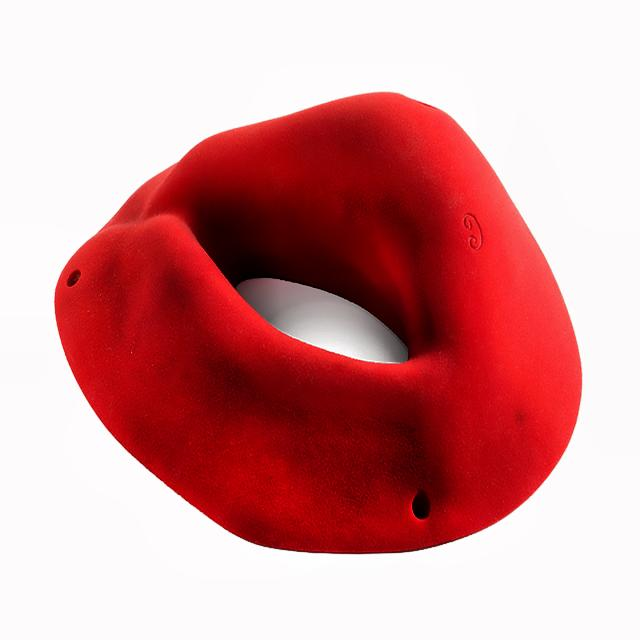Hold: (51, 88, 581, 552)
